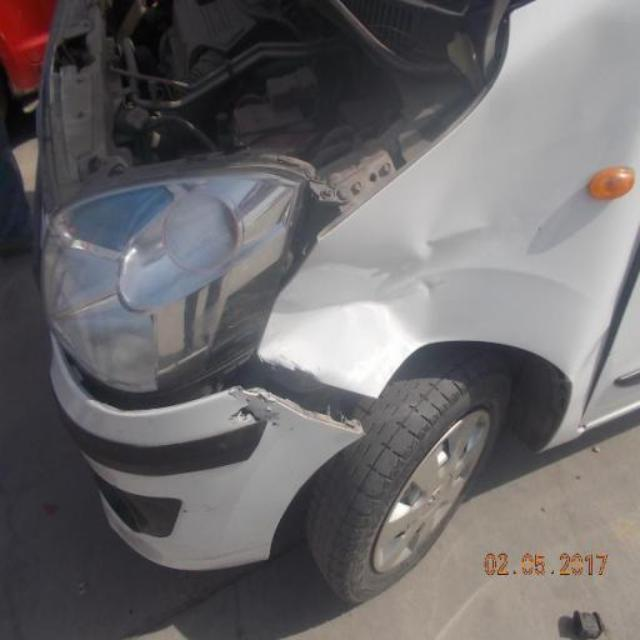dent: (269, 244, 447, 388)
dislocated part: (213, 348, 379, 439), (576, 229, 640, 437)
